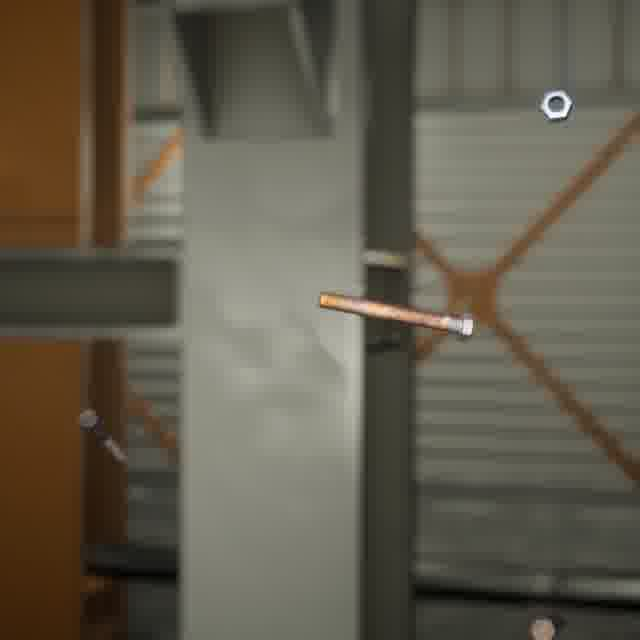bolt: (314, 287, 478, 345), (73, 404, 131, 467), (525, 607, 573, 640)
nut: (535, 85, 577, 126)
